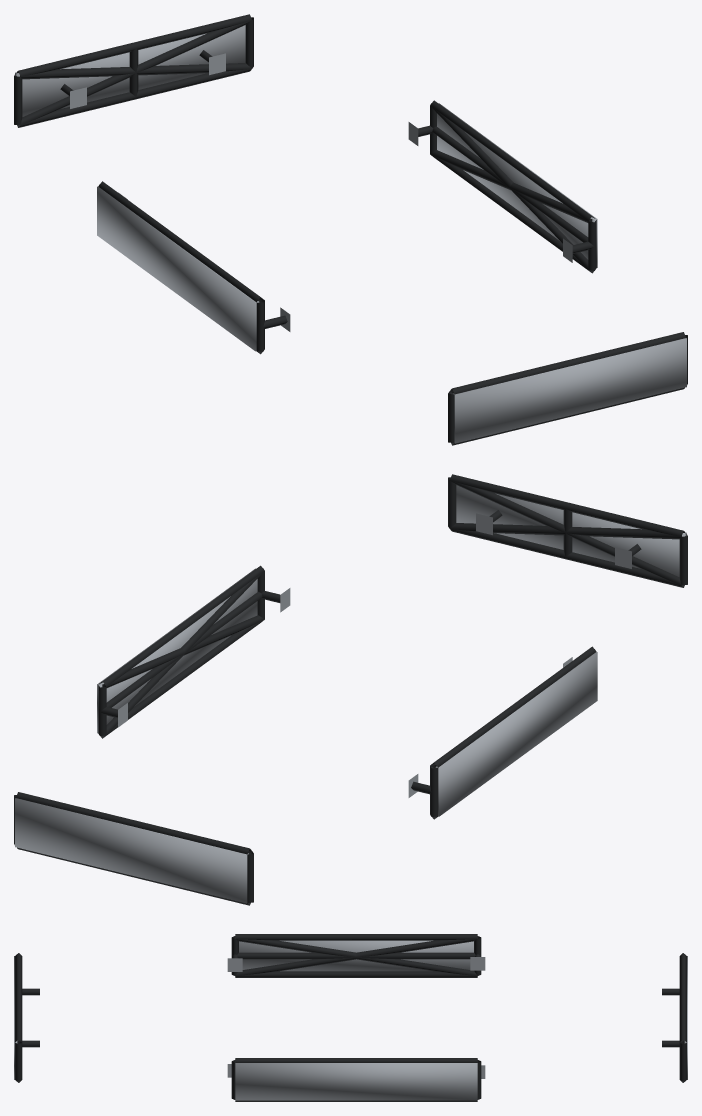
File: sanga_lava_protecao.glb
3 renders of one model, top to bottom at view 1: azimuth 30°, elevation 25°; view 2: azimuth 150°, elevation 25°; view 3: azimuth 270°, elevation 25°, orthographic. The views are drawn at different scales.
Parts seen in each view (by area): view 1: Protection_front_Level3_Details, Protection_left_Level3_Details, Protection_rear_Level1_Details, Protection_rear_Level3_Details, Protection_right_Level1_Details, Protection_rear_Level2_Details, Protection_right_Level2_Details, Protection_right_Level3_Details, Protection_front_Level1_Details, Protection_left_Level1_Details; view 2: Protection_rear_Level3_Details, Protection_left_Level3_Details, Protection_front_Level1_Details, Protection_front_Level3_Details, Protection_right_Level1_Details, Protection_front_Level2_Details, Protection_right_Level2_Details, Protection_right_Level3_Details, Protection_rear_Level1_Details, Protection_left_Level1_Details; view 3: Protection_right_Level3_Details, Protection_left_Level2_Details, Protection_left_Level3_Details, Protection_left_Level1_Details, Protection_right_Level1_Details, Protection_rear_Level1_Details, Protection_front_Level1_Details.
Boxes of the visible parts, left/top/right/bottom form: Protection_front_Level3_Details: left=453, top=338, right=686, bottom=443; Protection_left_Level3_Details: left=97, top=186, right=259, bottom=351; Protection_rear_Level1_Details: left=14, top=14, right=253, bottom=127; Protection_rear_Level3_Details: left=15, top=25, right=245, bottom=117; Protection_right_Level1_Details: left=408, top=100, right=596, bottom=273; Protection_rear_Level2_Details: left=16, top=20, right=251, bottom=126; Protection_right_Level2_Details: left=430, top=106, right=595, bottom=272; Protection_right_Level3_Details: left=437, top=103, right=597, bottom=267; Protection_front_Level1_Details: left=448, top=332, right=687, bottom=445; Protection_left_Level1_Details: left=98, top=181, right=290, bottom=354; Protection_rear_Level3_Details: left=15, top=798, right=248, bottom=903; Protection_left_Level3_Details: left=435, top=652, right=597, bottom=816; Protection_front_Level1_Details: left=448, top=474, right=687, bottom=587; Protection_front_Level3_Details: left=456, top=485, right=686, bottom=577; Protection_right_Level1_Details: left=98, top=565, right=290, bottom=738; Protection_front_Level2_Details: left=450, top=480, right=685, bottom=586; Protection_right_Level2_Details: left=99, top=572, right=264, bottom=737; Protection_right_Level3_Details: left=97, top=568, right=257, bottom=733; Protection_rear_Level1_Details: left=14, top=792, right=253, bottom=905; Protection_left_Level1_Details: left=408, top=646, right=596, bottom=819; Protection_right_Level3_Details: left=235, top=1063, right=477, bottom=1100; Protection_left_Level2_Details: left=235, top=936, right=477, bottom=975; Protection_left_Level3_Details: left=239, top=940, right=473, bottom=971; Protection_left_Level1_Details: left=227, top=934, right=485, bottom=977; Protection_right_Level1_Details: left=227, top=1058, right=485, bottom=1101; Protection_rear_Level1_Details: left=662, top=953, right=686, bottom=1082; Protection_front_Level1_Details: left=15, top=953, right=39, bottom=1082.
Bounding box in the file's own units: 2.21 × 0.354 × 4.92.
1 material, 1 textured.
